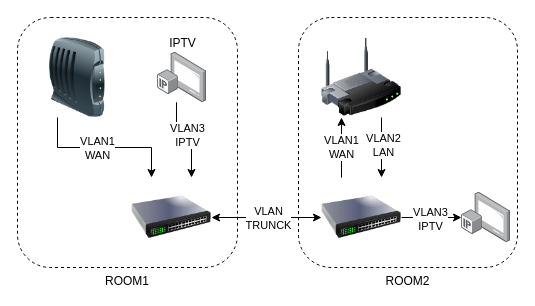
Image size: 535x306. Some labels were removed from this diagram. The shapes that lost their labels are listed below. From the top down, each one's centre as x and y in pixels, then its label:
the point at 77,77: MODEM
the point at 361,77: ROUTER
